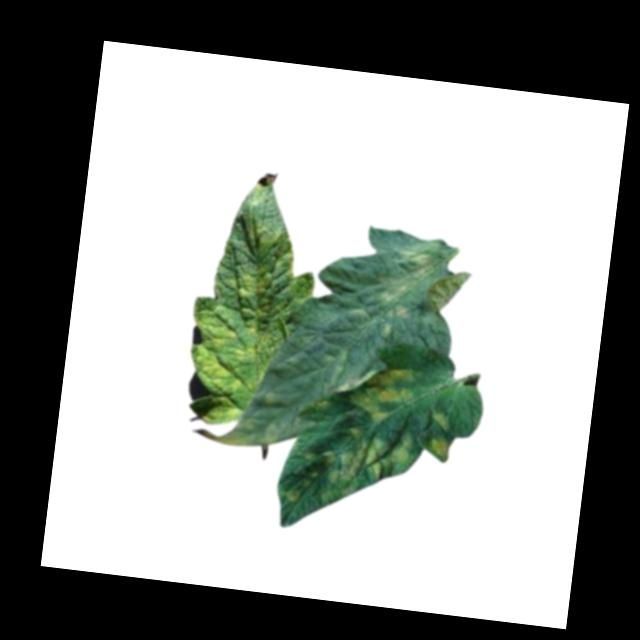Leaf_Mold: (179, 165, 327, 435), (317, 423, 417, 501), (374, 236, 438, 344), (346, 360, 420, 429), (426, 435, 452, 463), (428, 409, 452, 431)
